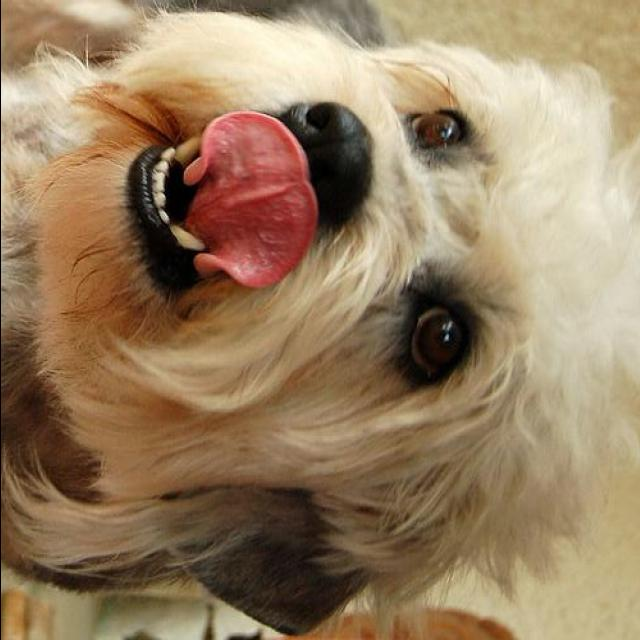dandie_dinmont: (2, 11, 638, 638)
